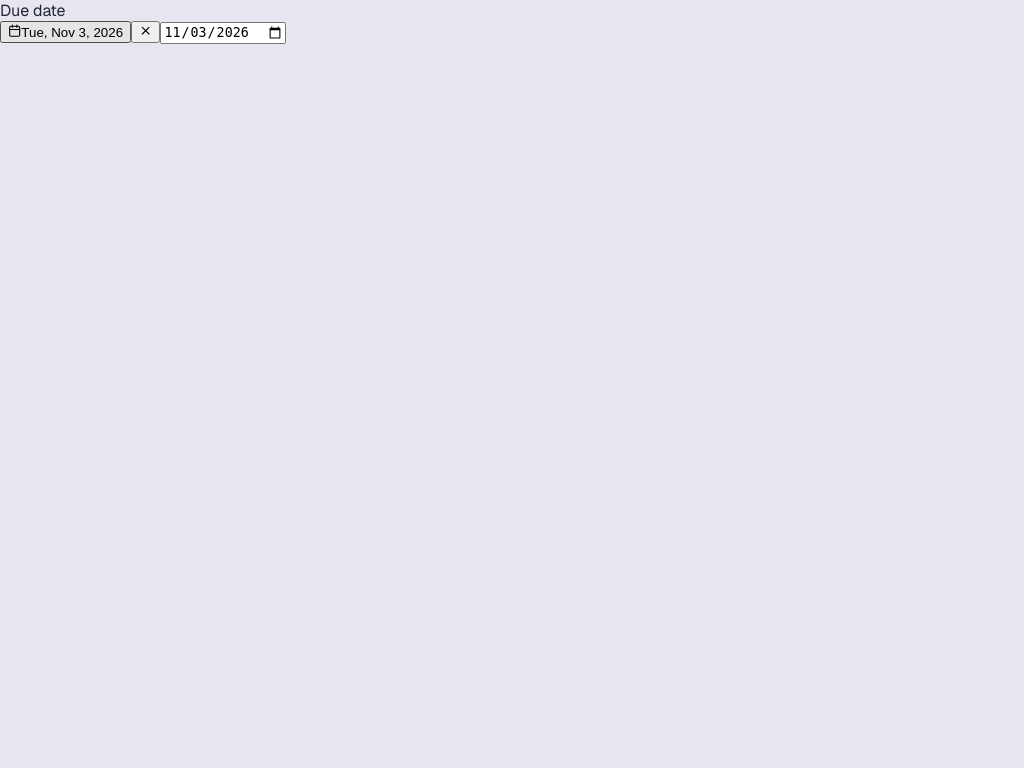
Test: opens on the chosen month
Click the dropdown with id "due": (66, 32) [0,21,131,43]
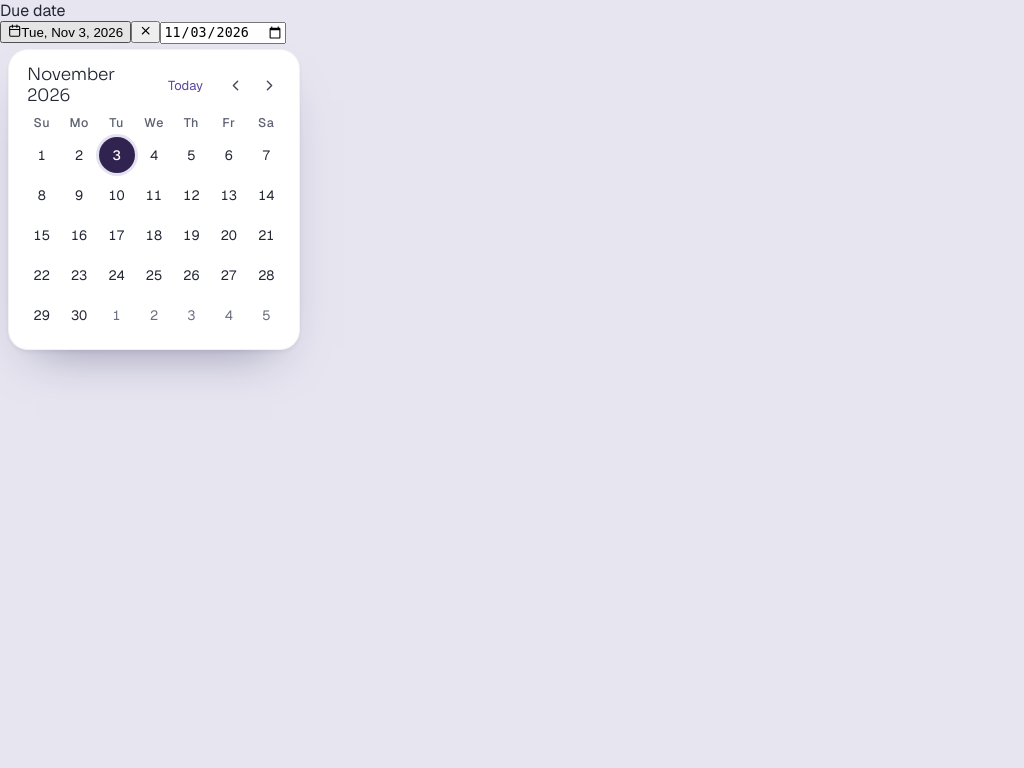
Now the heading "November 2026" is shown, box [27,64,114,106]
Click the dropdown with id "due": (66, 32) [0,21,131,43]
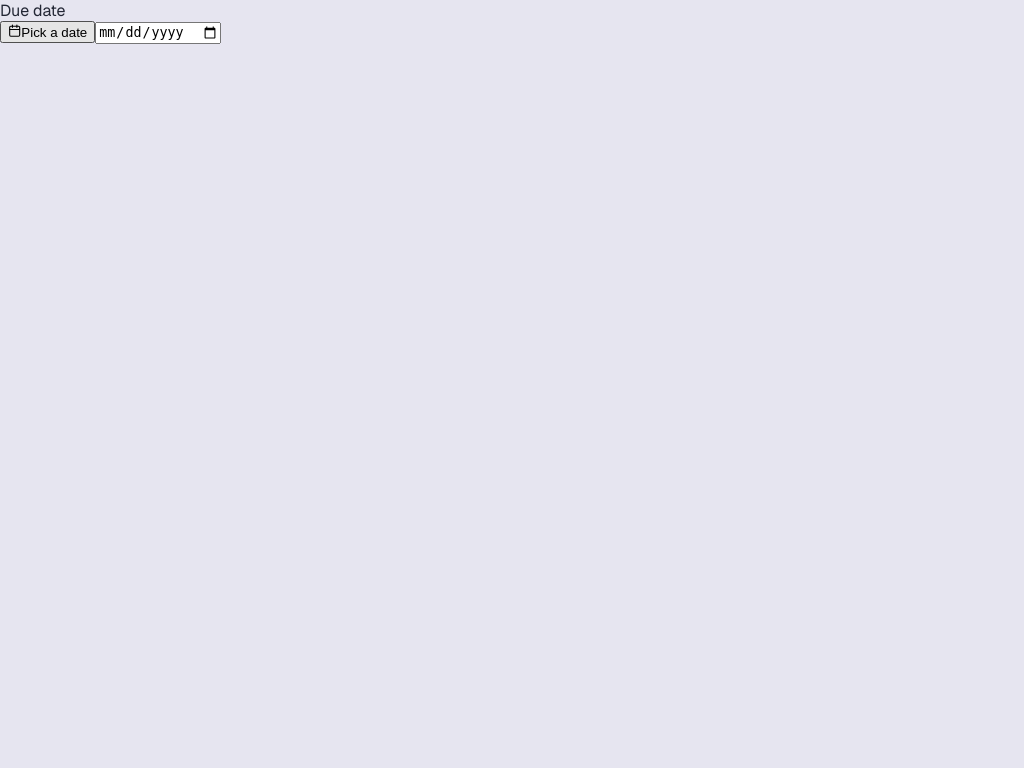
Click the dropdown with id "due": (48, 32) [0,21,95,43]
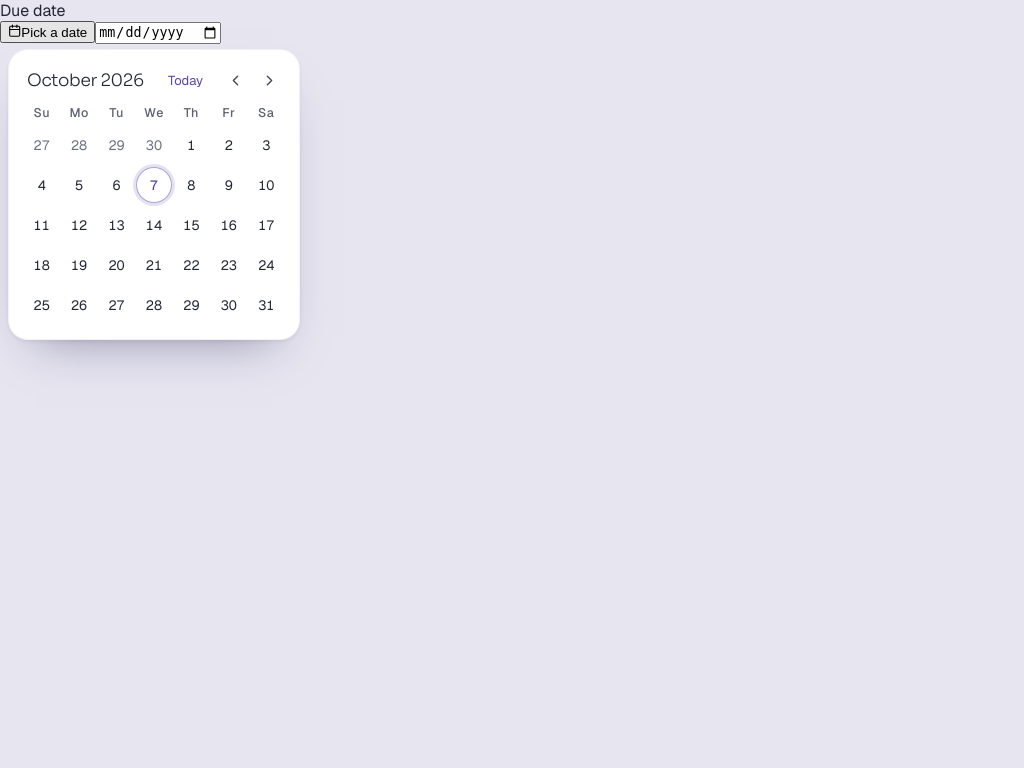
Now the heading "October 2026" is shown, box [23,70,144,91]
